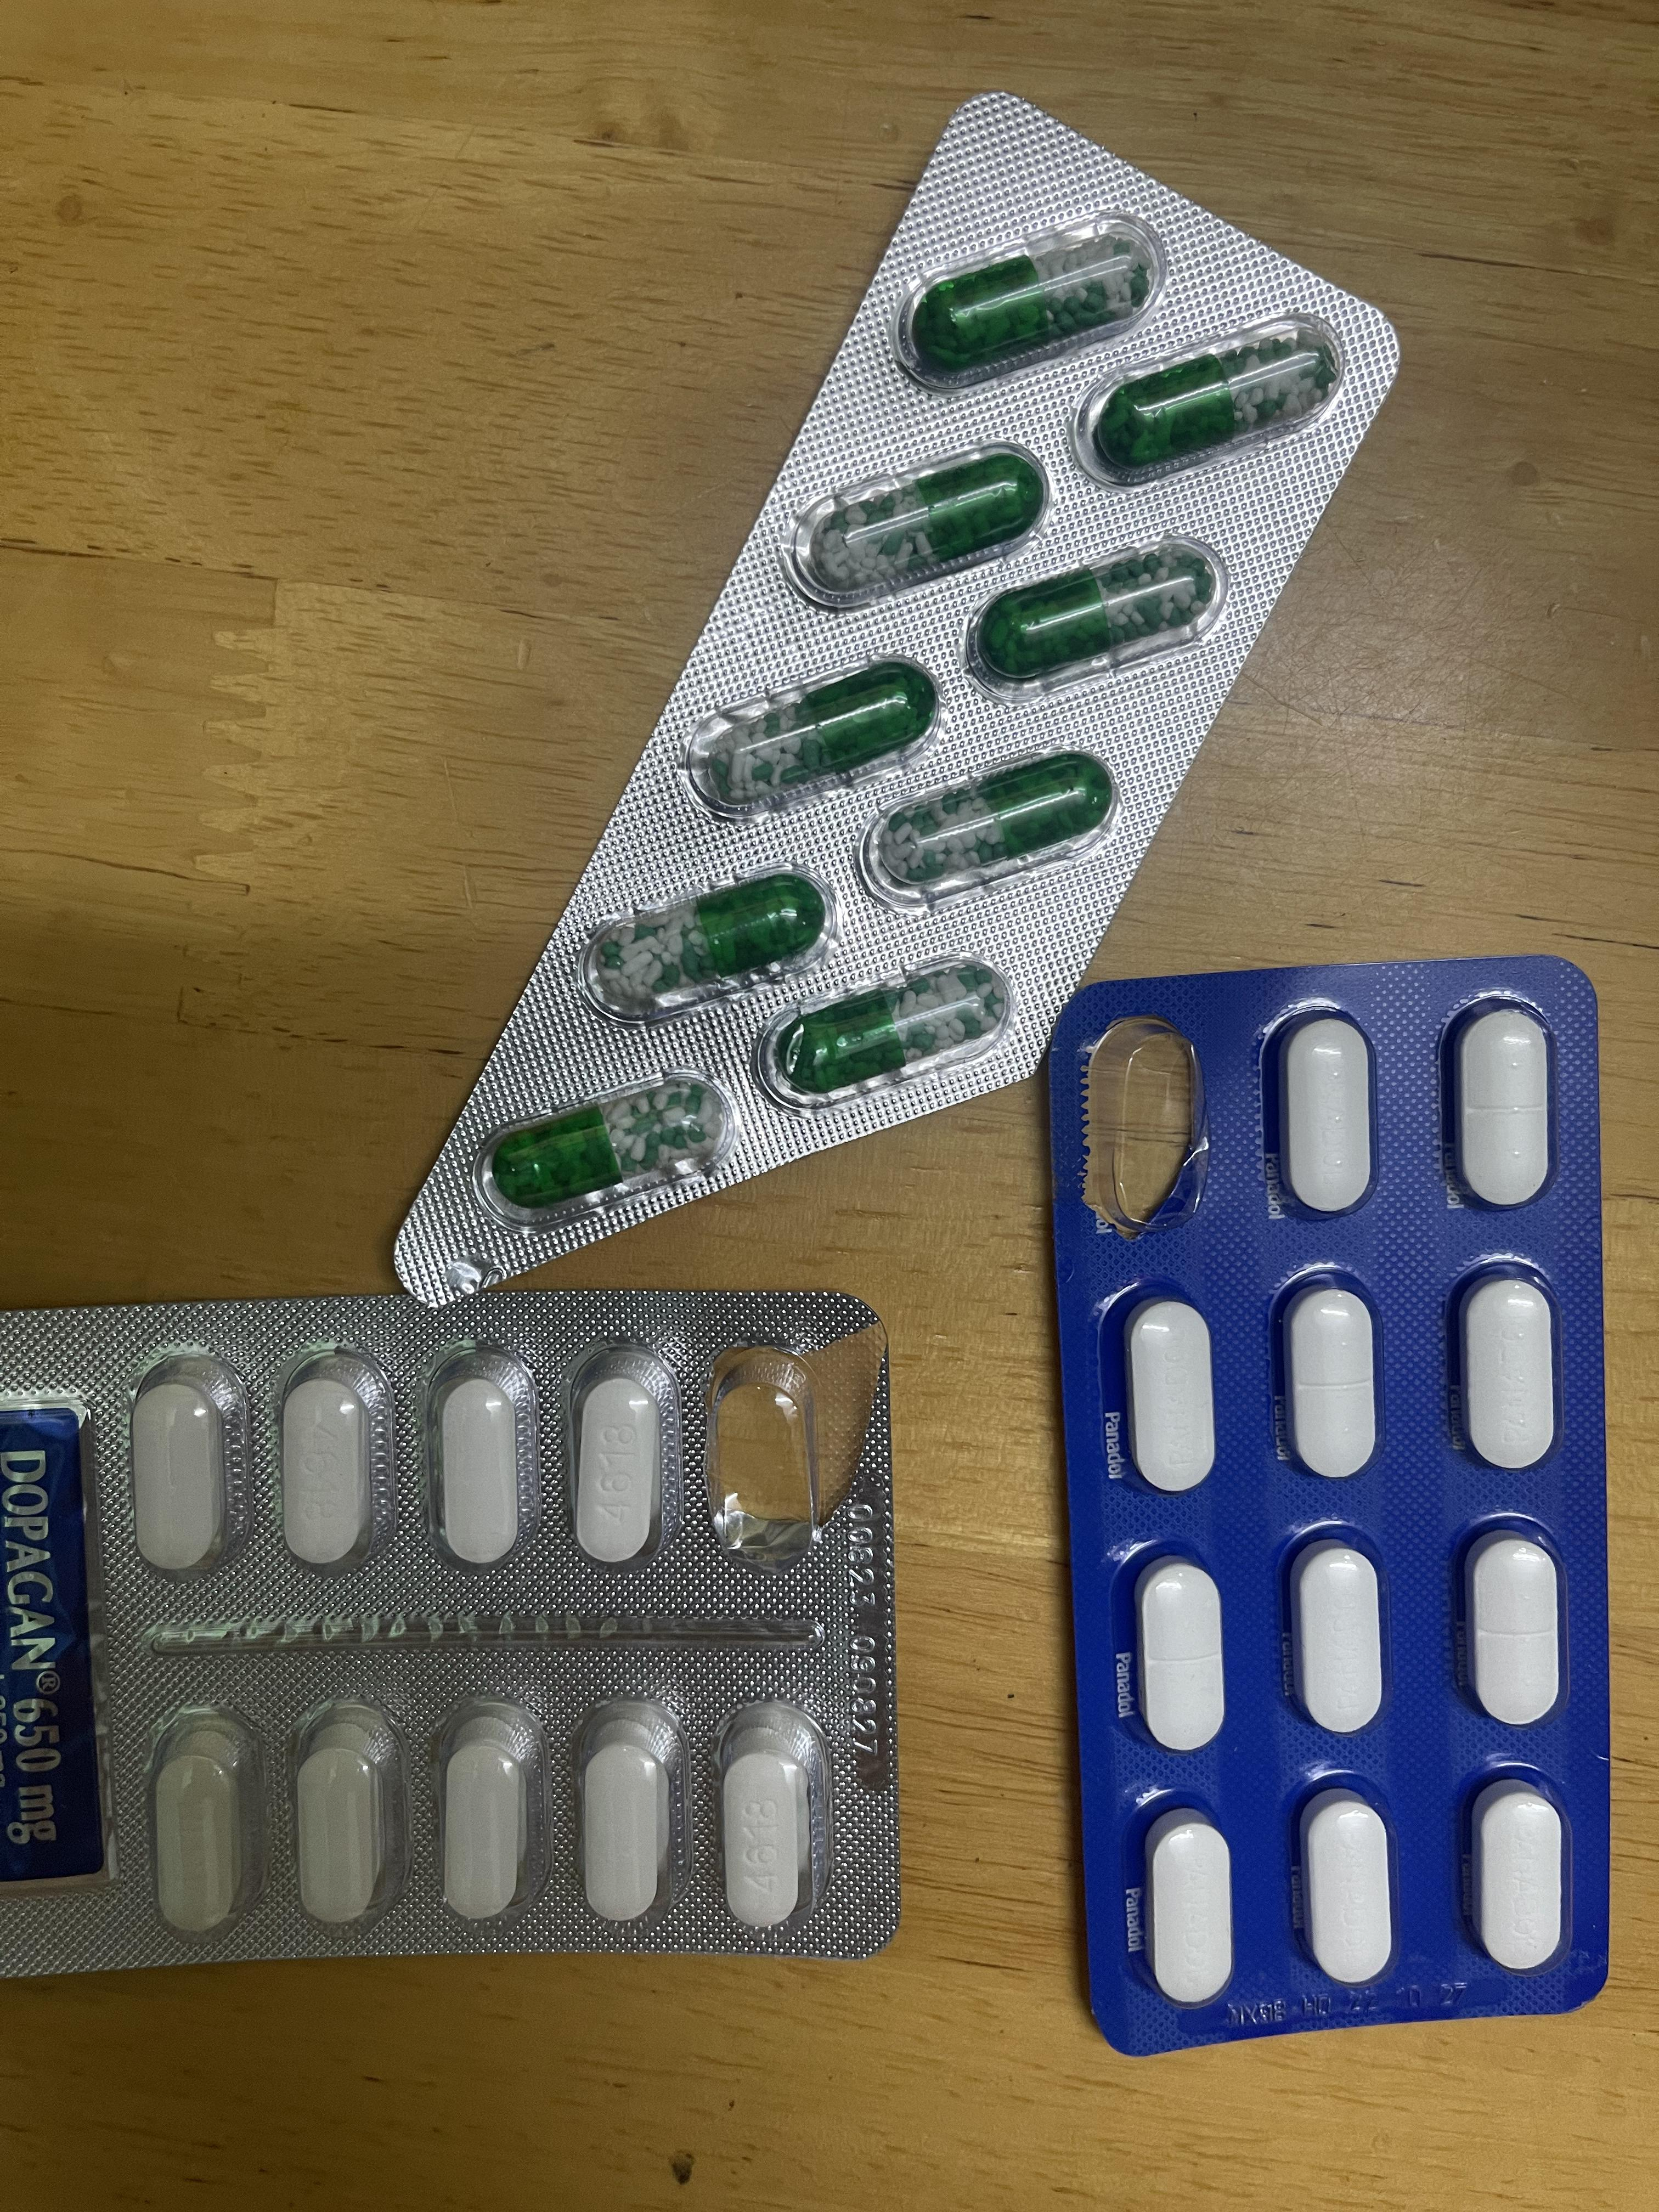Paracetamol_350mg: (1457, 1008, 1554, 1211), (1460, 1278, 1558, 1479), (1300, 1789, 1396, 1989), (1283, 1015, 1377, 1216), (1284, 1284, 1378, 1480), (1467, 1533, 1561, 1730), (1126, 1298, 1218, 1496), (1293, 1541, 1385, 1737), (1145, 1806, 1234, 2008), (1474, 1780, 1565, 1975), (1138, 1557, 1227, 1754)
Paracetamol_500mg: (146, 1710, 254, 1939), (288, 1705, 392, 1933), (127, 1362, 237, 1575), (437, 1700, 533, 1926), (572, 1355, 673, 1568), (275, 1366, 378, 1568), (579, 1710, 673, 1925), (720, 1730, 810, 1930), (437, 1376, 523, 1566)
Paracetamol_650mg: (885, 212, 1157, 399), (791, 441, 1051, 613), (1084, 319, 1345, 482), (972, 542, 1227, 693), (870, 747, 1115, 902), (774, 953, 1012, 1101), (591, 873, 828, 1014), (709, 660, 936, 806), (493, 1073, 727, 1207)
